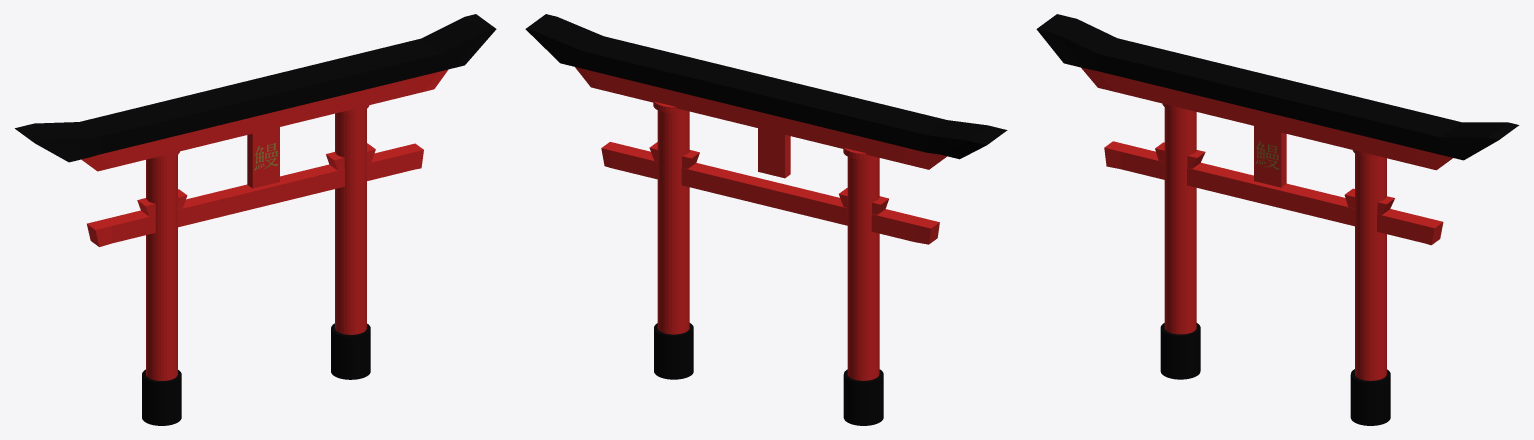
File: tori.fbx
The picture shows the model from 3 angles, left to right: view 1: azimuth 30°, elevation 25°; view 2: azimuth 150°, elevation 25°; view 3: azimuth 330°, elevation 25°; orthographic projection.
Parts seen in each view (by area): view 1: Cylinder; view 2: Cylinder; view 3: Cylinder.
Boxes of the visible parts, bbox=[...] form: Cylinder: bbox=[15, 14, 496, 425]; Cylinder: bbox=[525, 14, 1007, 425]; Cylinder: bbox=[1036, 14, 1519, 425].
Bounding box in the file's own units: 1906 × 1248 × 172.
